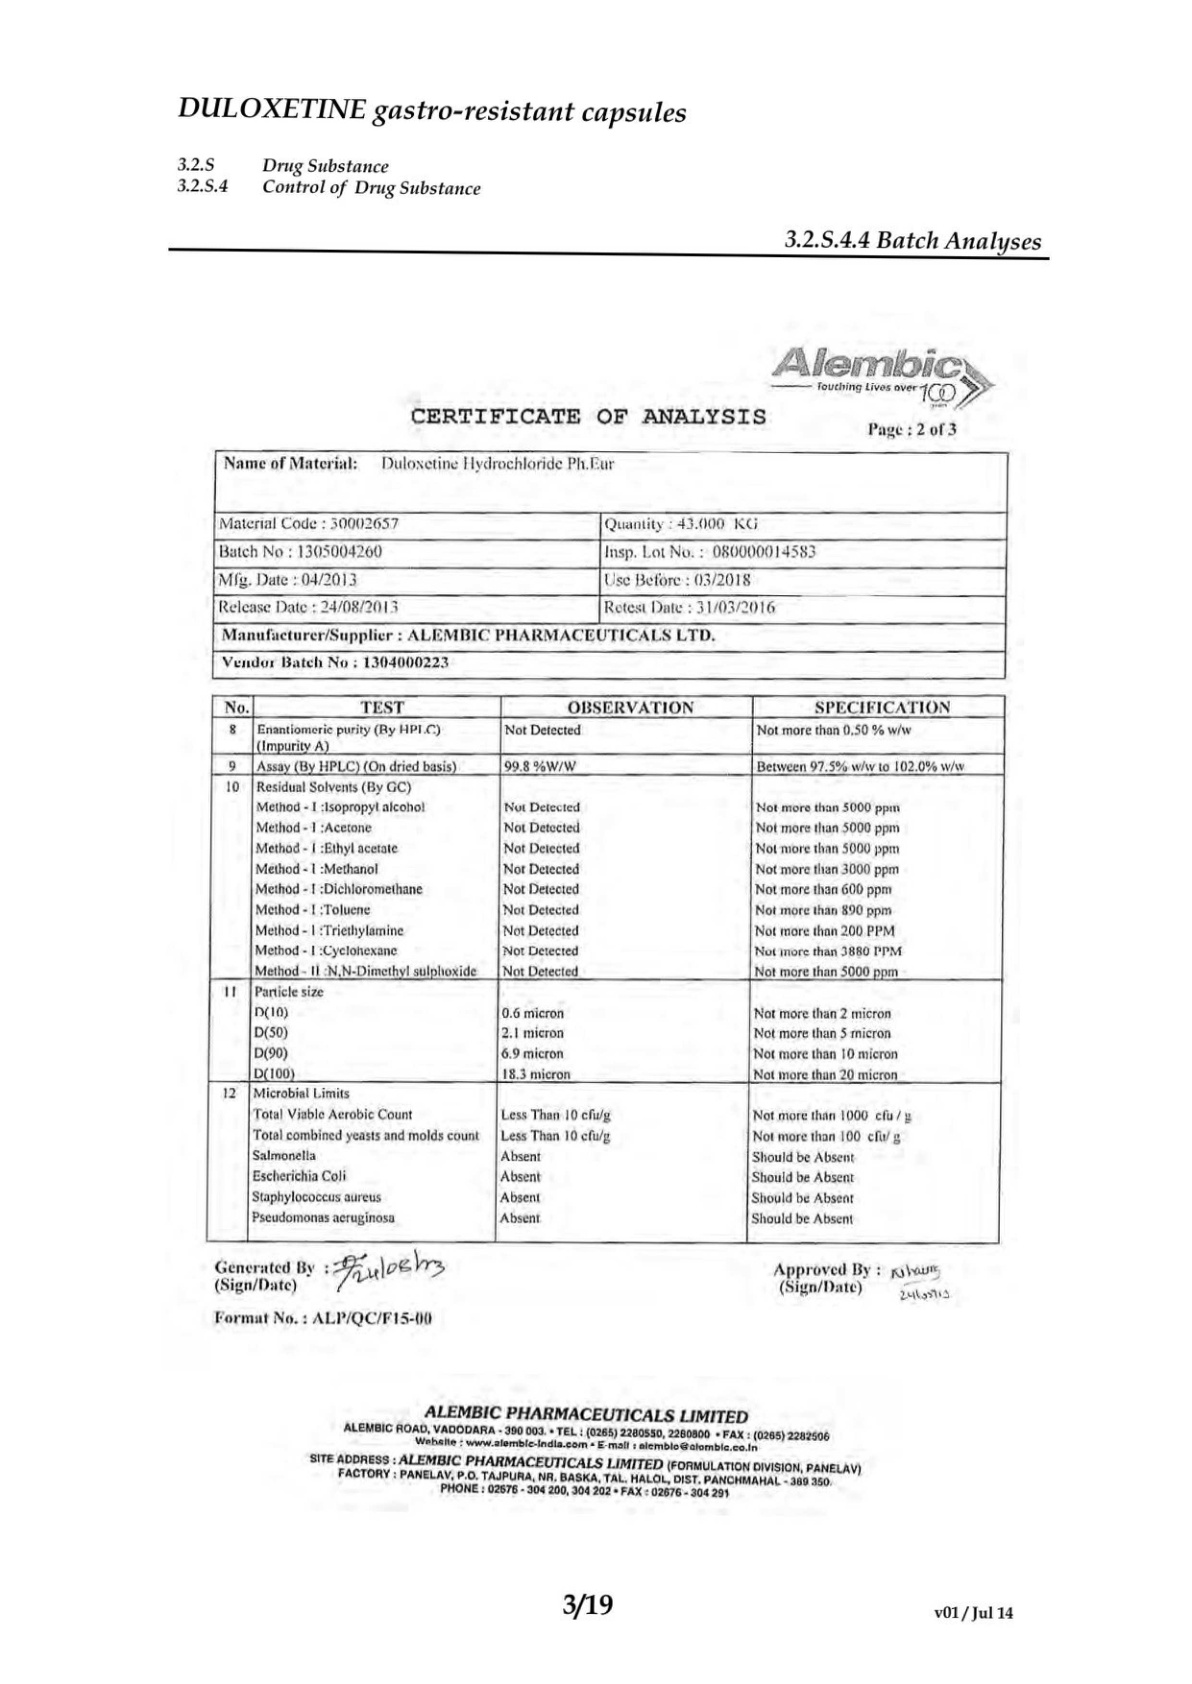full_lined: (204, 691, 1006, 1246)
merged_cells: (210, 447, 1010, 682)
